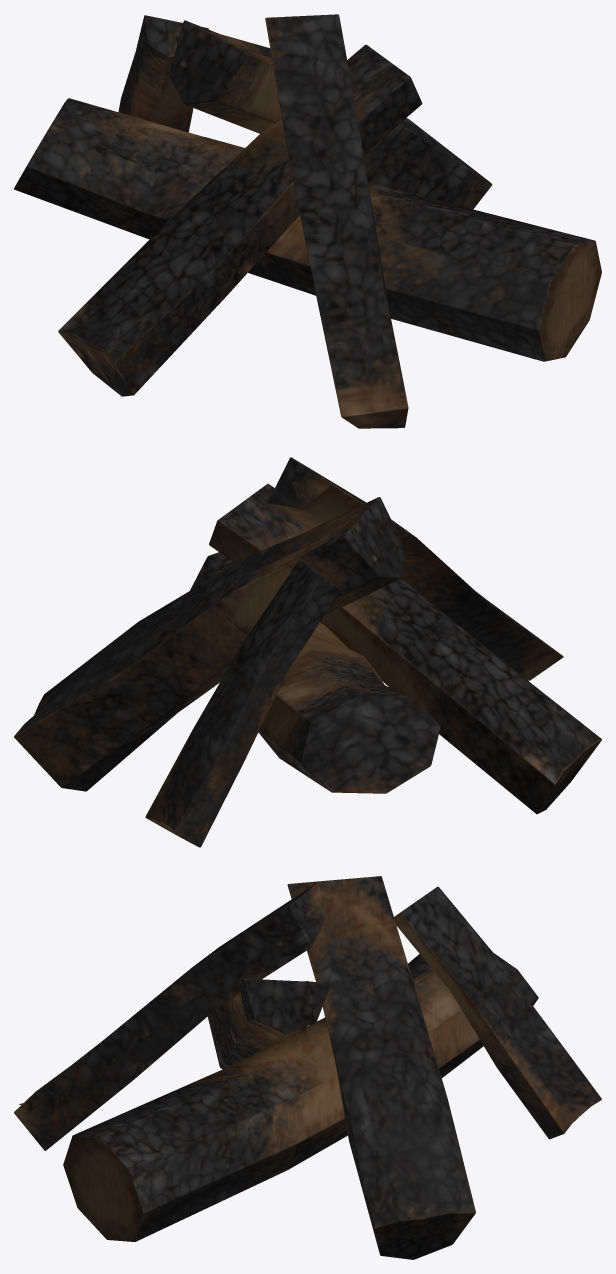
The model's file is SM_FirePlace.fbx.
3 views of the same model, one above another, from view 1: azimuth 30°, elevation 25°; view 2: azimuth 150°, elevation 25°; view 3: azimuth 270°, elevation 25° (orthographic). The views are drawn at different scales.
Visible parts, largest first — view 1: SM_FirePlace_LOD0.001; view 2: SM_FirePlace_LOD0.001; view 3: SM_FirePlace_LOD0.001.
Part boxes in pixels (x1,y1,x2,y2): SM_FirePlace_LOD0.001: [14, 14, 601, 428]; SM_FirePlace_LOD0.001: [14, 457, 601, 847]; SM_FirePlace_LOD0.001: [14, 876, 601, 1259].
Size of the model in its own units: 47.76 by 30.73 by 56.07.
Materials: 1 (1 with a texture image).
